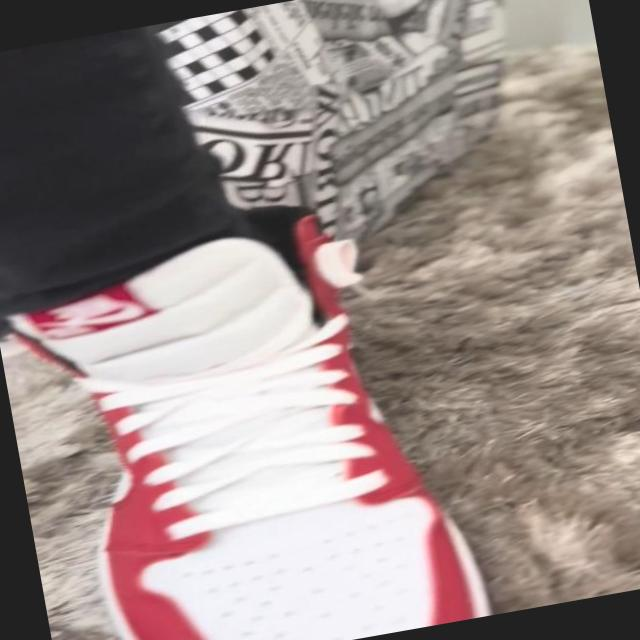nike_fake_jordan: (8, 183, 481, 640)
